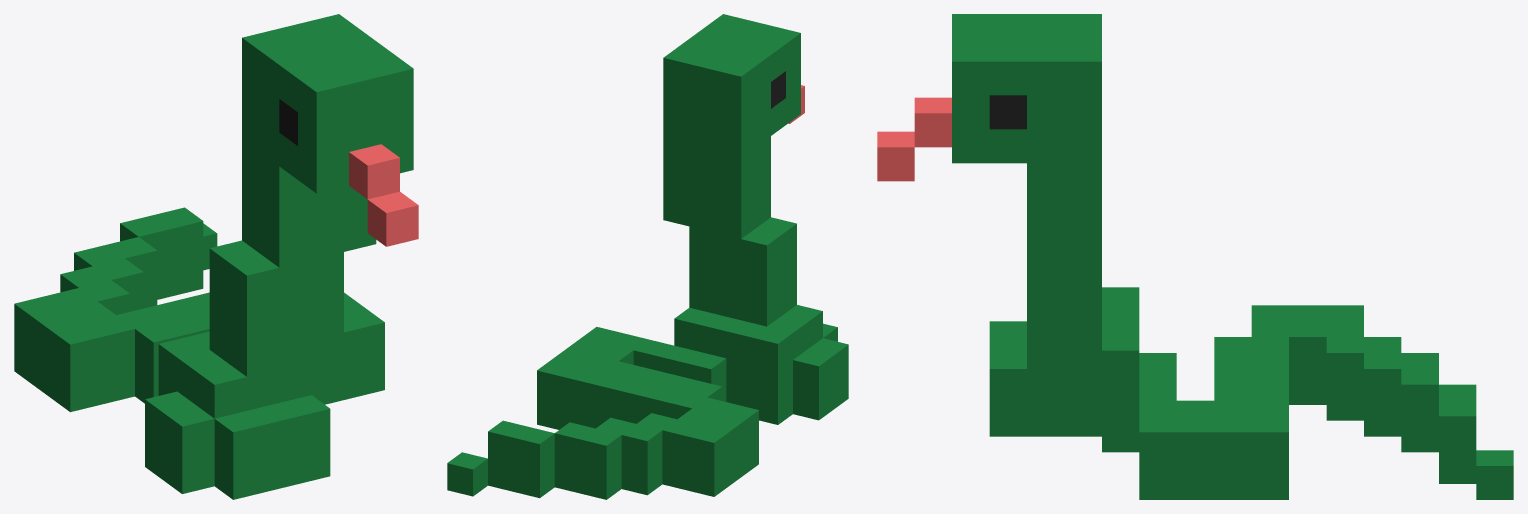
The model's file is ssnake.fbx.
3 renders of one model, left to right at view 1: azimuth 30°, elevation 25°; view 2: azimuth 150°, elevation 25°; view 3: azimuth 270°, elevation 25°, orthographic. The views are drawn at different scales.
Parts seen in each view (by area): view 1: snake; view 2: snake; view 3: snake.
Boxes of the visible parts, bbox=[...] form: snake: bbox=[14, 14, 418, 499]; snake: bbox=[447, 14, 848, 499]; snake: bbox=[877, 14, 1513, 499].
Size of the model in its own units: 801 by 1199 by 1700.
